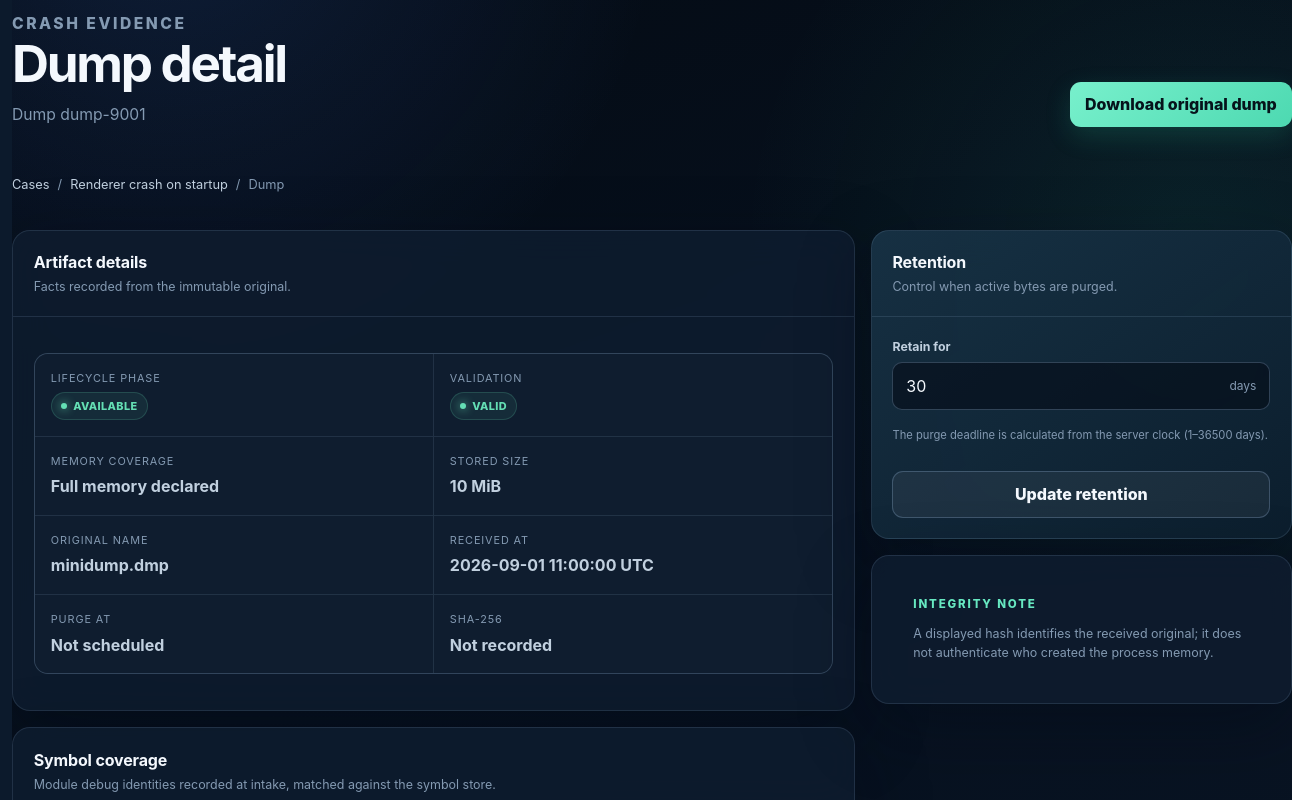
Scenario: Dump detail operator page › surfaces a retention failure as a focus-moved alert
This screenshot has width=1292, height=800.
Expected: the text "Available" is shown, [51,392,148,420]
Click the button "Update retention": {"x": 1081, "y": 494} [892,471,1270,518]
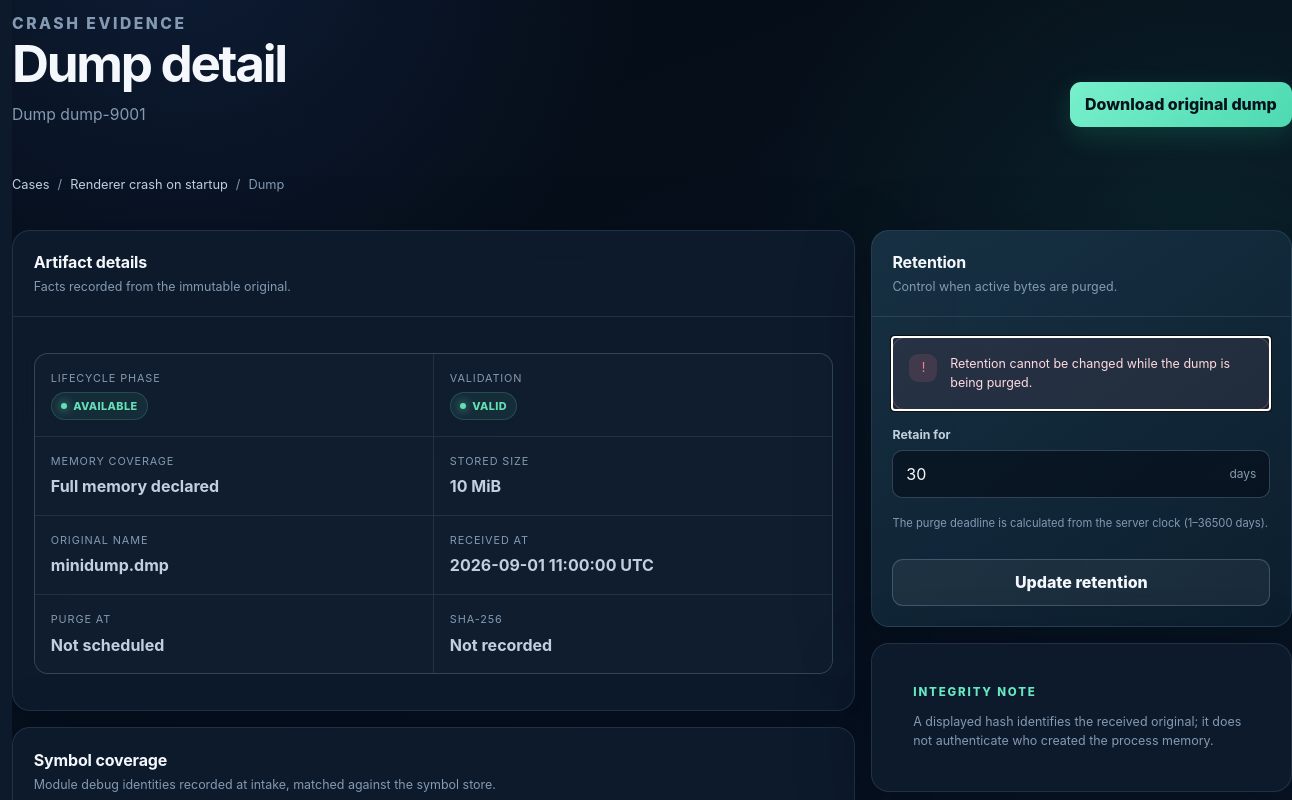
Expected: the button "Update retention" is enabled, [892,559,1270,606]
Now the message shows "Retention cannot be changed while the dump is being purged.", box [950,356,1230,390]
